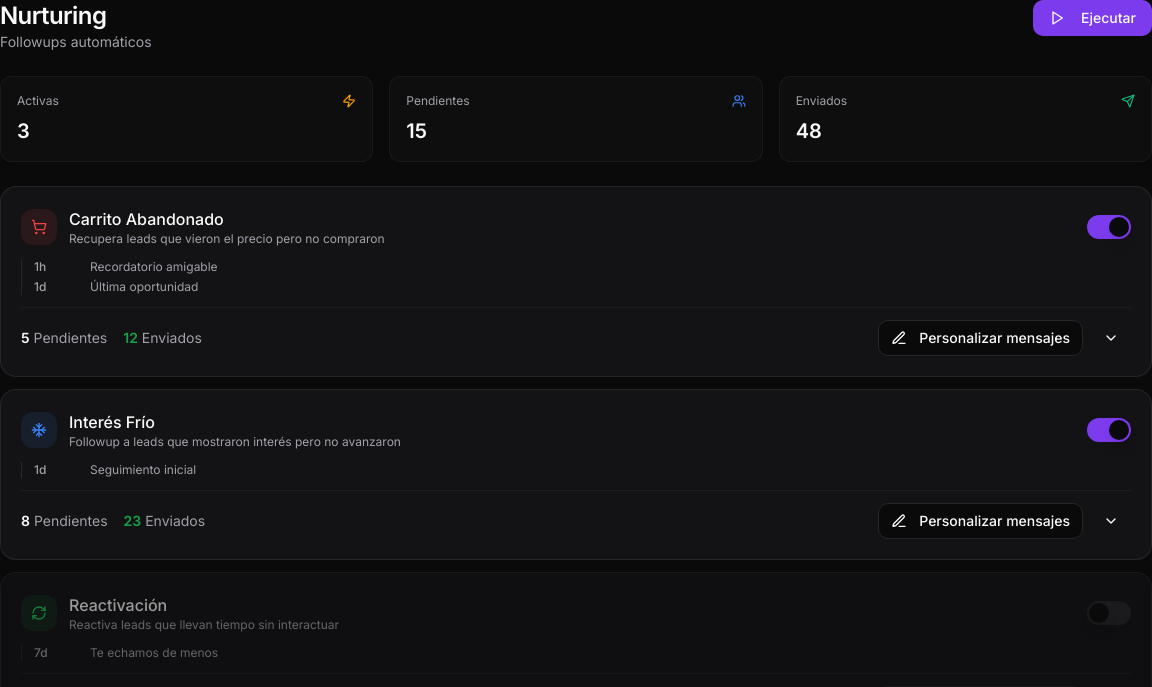
Nurturing Page › clicking edit button opens modal
Click the button "Personalizar mensajes" in the row of "12" at (981, 338), box left=878, top=320, right=1083, bottom=356
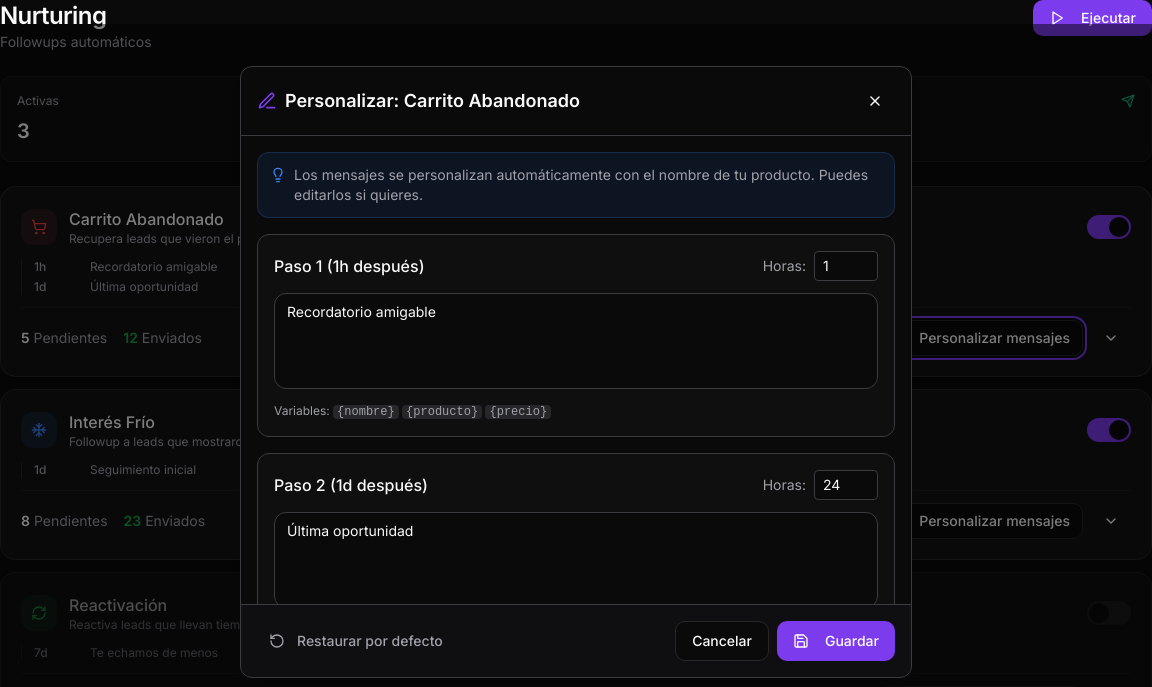
Expected: the heading "Personalizar: Carrito Abandonado" is shown, left=285, top=87, right=580, bottom=115
